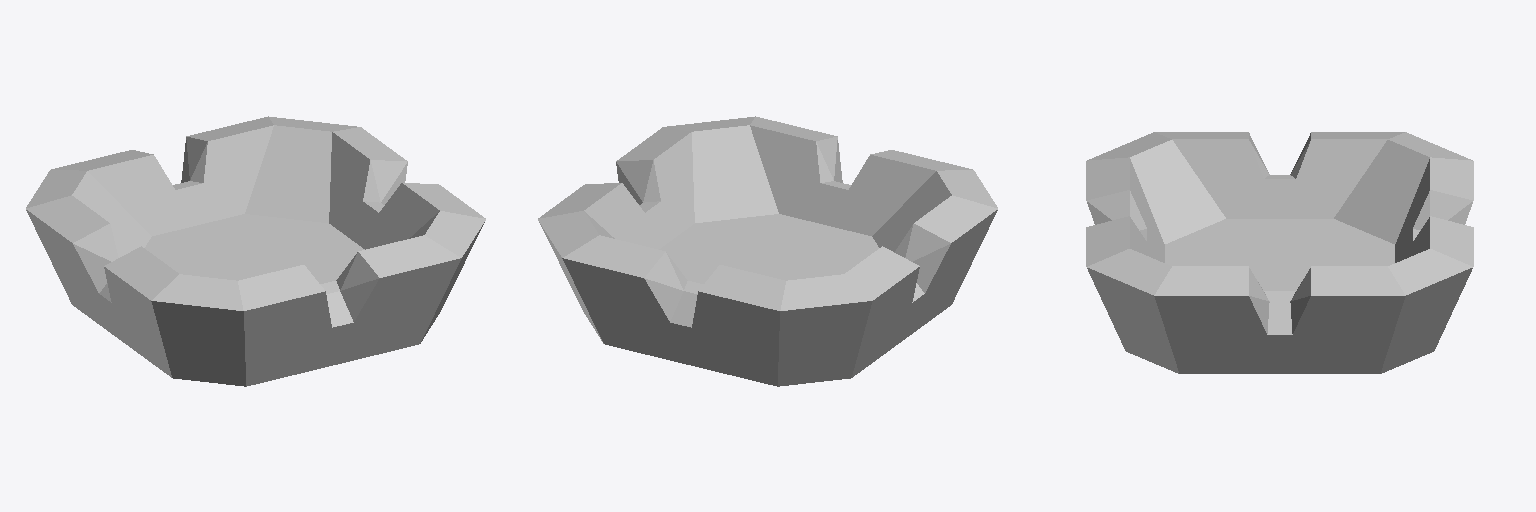
File: Ashtray_A__2.obj
3 views of the same model, side by side, from view 1: azimuth 30°, elevation 25°; view 2: azimuth 150°, elevation 25°; view 3: azimuth 270°, elevation 25° (orthographic).
Parts seen in each view (by area): view 1: Cube1; view 2: Cube1; view 3: Cube1.
Boxes of the visible parts, x1=… form: Cube1: x1=26, y1=116, x2=485, y2=386; Cube1: x1=538, y1=116, x2=997, y2=386; Cube1: x1=1086, y1=132, x2=1473, y2=373.
Bounding box in the file's own units: 2.51 × 0.7582 × 2.51.